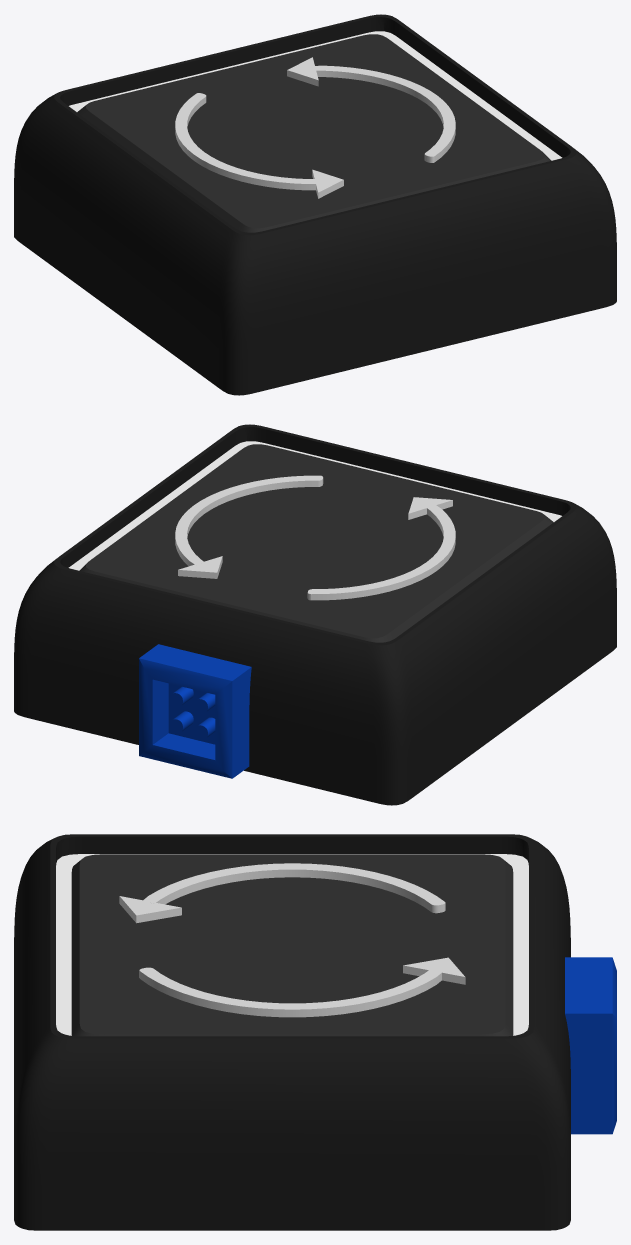
File: TiltSensor.gltf
The picture shows the model from 3 angles, top to bottom: view 1: azimuth 30°, elevation 25°; view 2: azimuth 150°, elevation 25°; view 3: azimuth 270°, elevation 25°; orthographic projection. The views are drawn at different scales.
Parts seen in each view (by area): view 1: base; view 2: base; view 3: base.
Boxes of the visible parts, x1=… form: base: x1=14, y1=14, x2=616, y2=395; base: x1=14, y1=424, x2=616, y2=805; base: x1=14, y1=834, x2=616, y2=1230.
Bounding box in the file's own units: 0.25 × 0.0875 × 0.2706.
